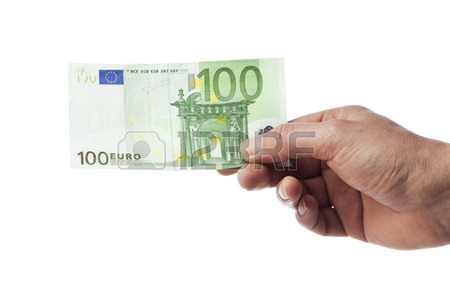billete: (66, 56, 294, 172)
